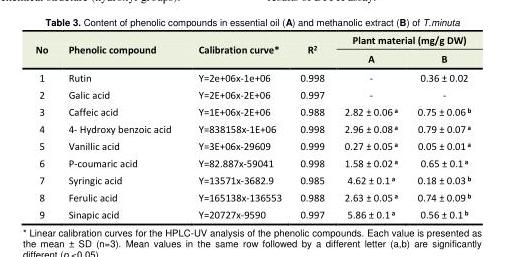table: (34, 34, 470, 220)
table column: (57, 34, 184, 220), (184, 34, 290, 220), (333, 34, 406, 220), (406, 34, 470, 220), (290, 34, 333, 220), (34, 34, 57, 220)
table row: (34, 49, 470, 68), (34, 68, 470, 86), (34, 171, 470, 189), (34, 86, 470, 103), (34, 103, 470, 120), (34, 120, 470, 137), (34, 137, 470, 154), (34, 154, 470, 171), (34, 189, 470, 206), (34, 34, 470, 49), (34, 206, 470, 220)
table spanning cell: (57, 34, 184, 68), (184, 34, 290, 68), (333, 34, 470, 49), (290, 34, 333, 68), (34, 34, 57, 68)
